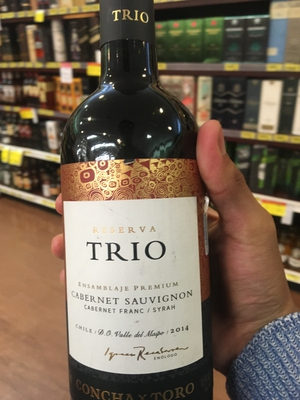trio cabernet sauvignon: (63, 20, 224, 400)
